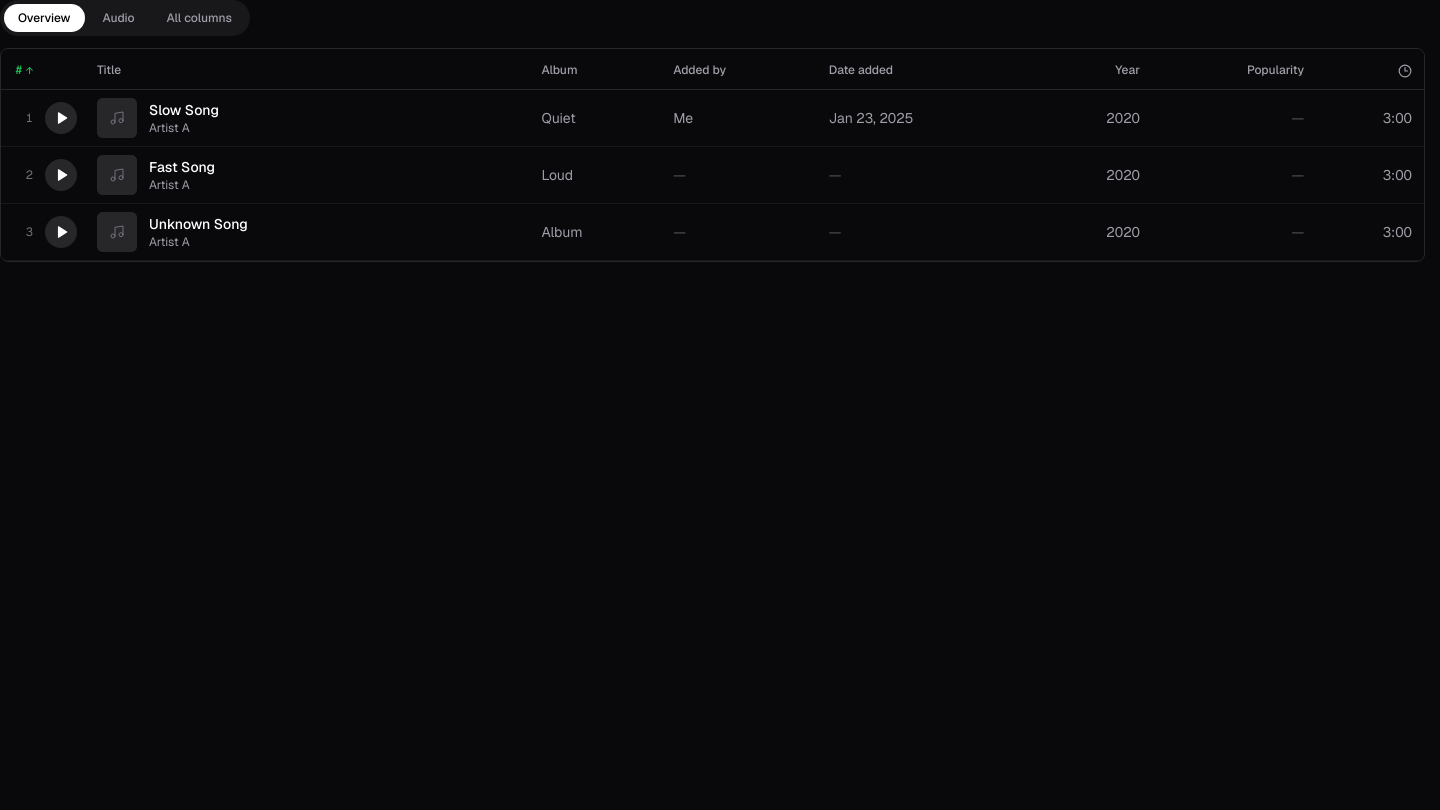
Test case: TrackTable › opens the details panel from the title, with lyrics and background, and closes it with Escape
The width and height of the screenshot is (1440, 810).
Click the button "Slow Song Artist A".
click(117, 118)  # box [97, 98, 517, 138]
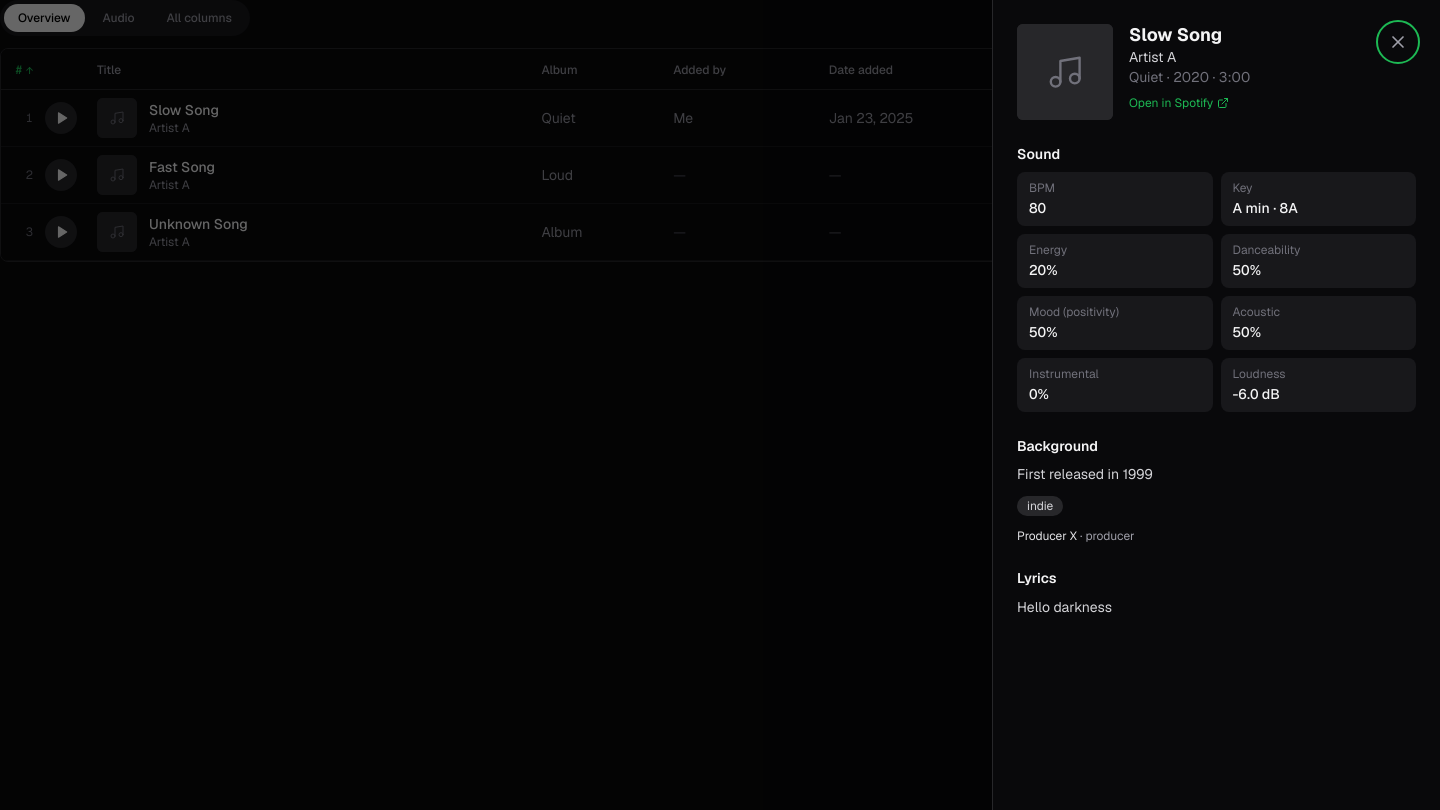
Check: the text "Hello darkness" is shown, box [1017, 598, 1112, 616]
Check: the text "First released in 1999" is shown, box [1017, 465, 1153, 483]
Check: the text "indie" is shown, box [1017, 496, 1063, 516]
Press Escape
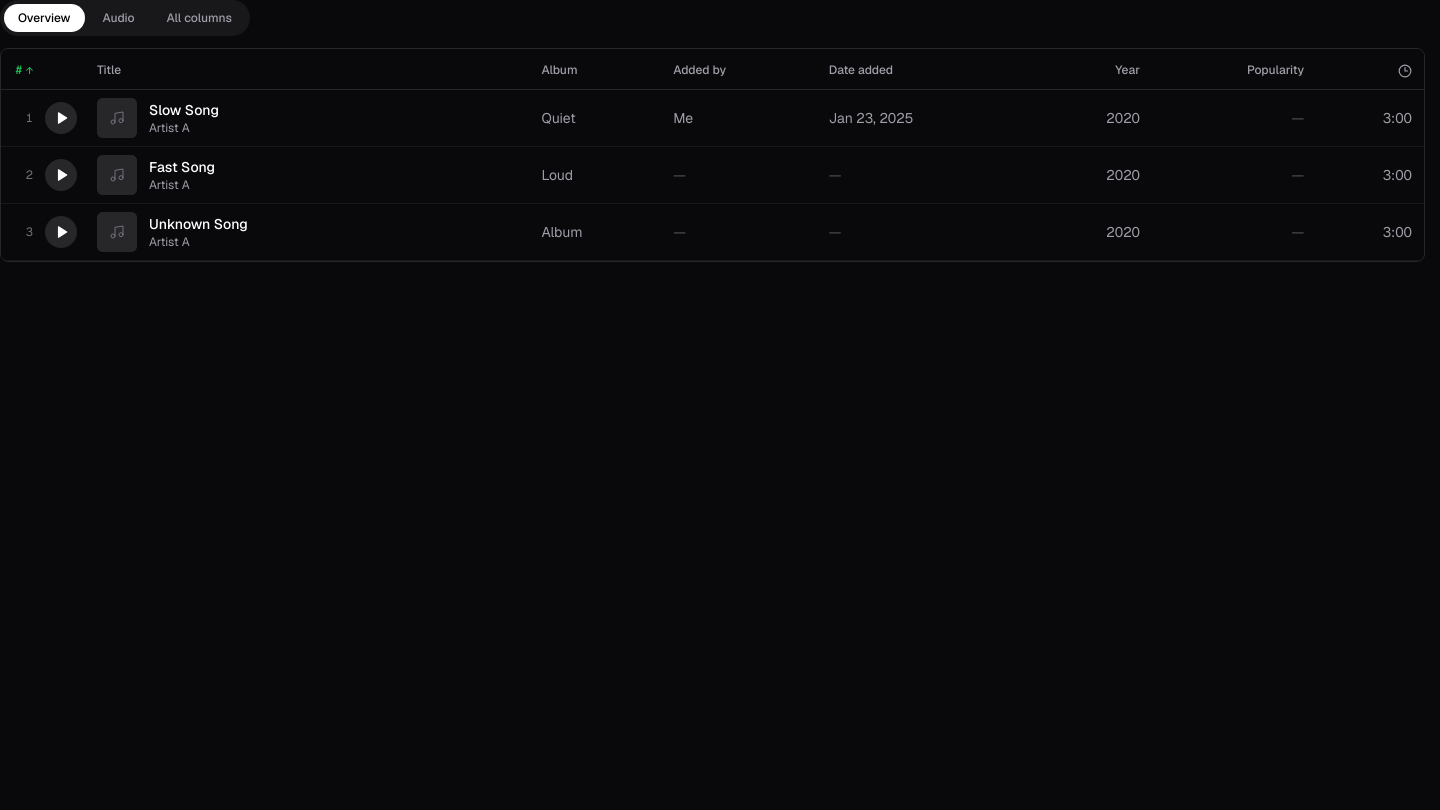
Check: the dialog is gone
